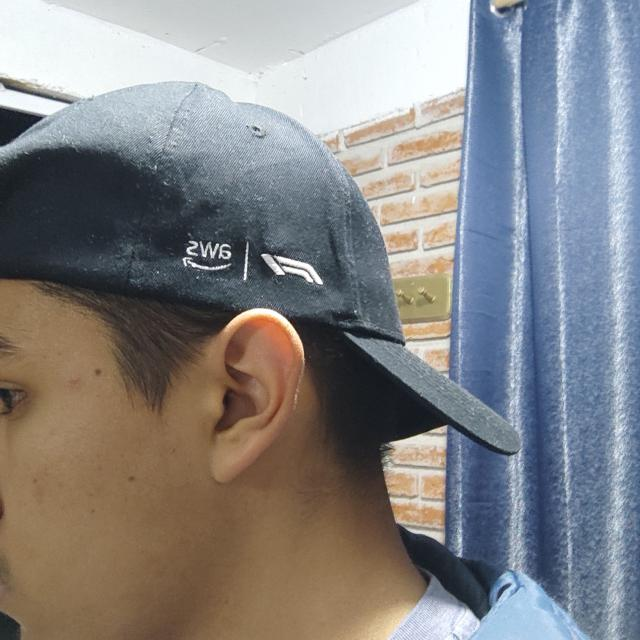ear: (206, 308, 305, 483)
